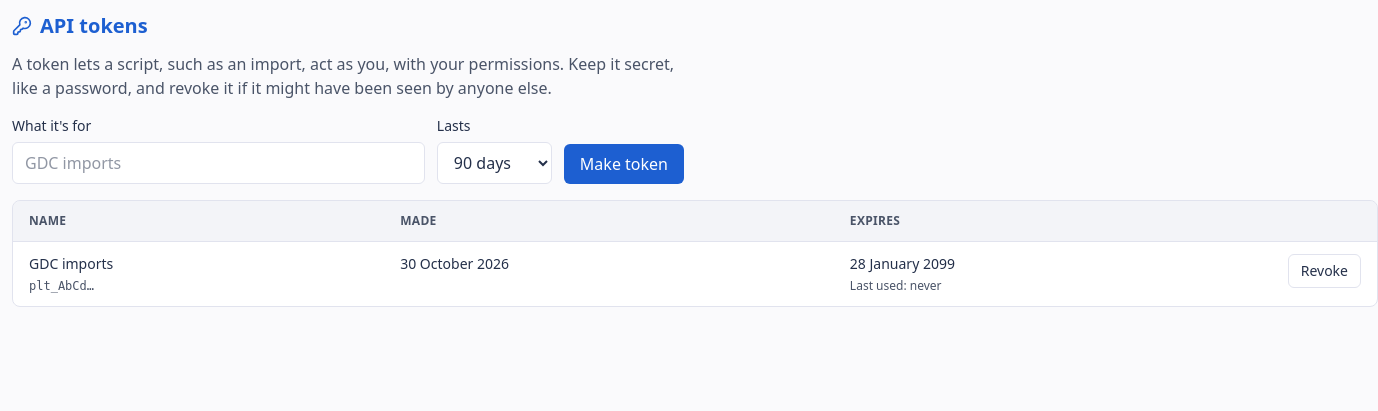
TokensSection › says why a token could not be revoked
Click the button with aria-label "Revoke GDC imports" at (1324, 271), box left=1288, top=254, right=1361, bottom=288
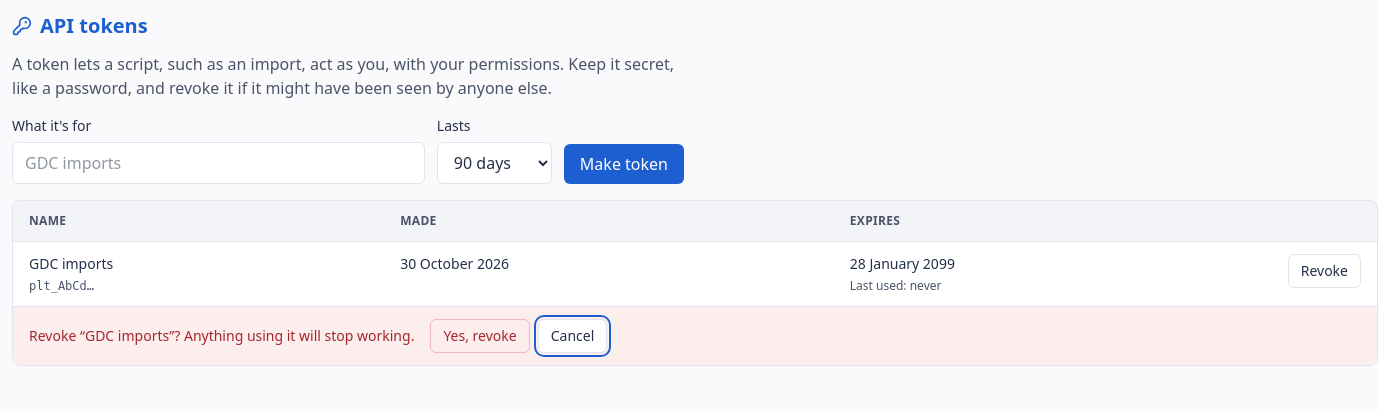
Click the button "Yes, revoke" at (480, 336), box left=430, top=319, right=530, bottom=353
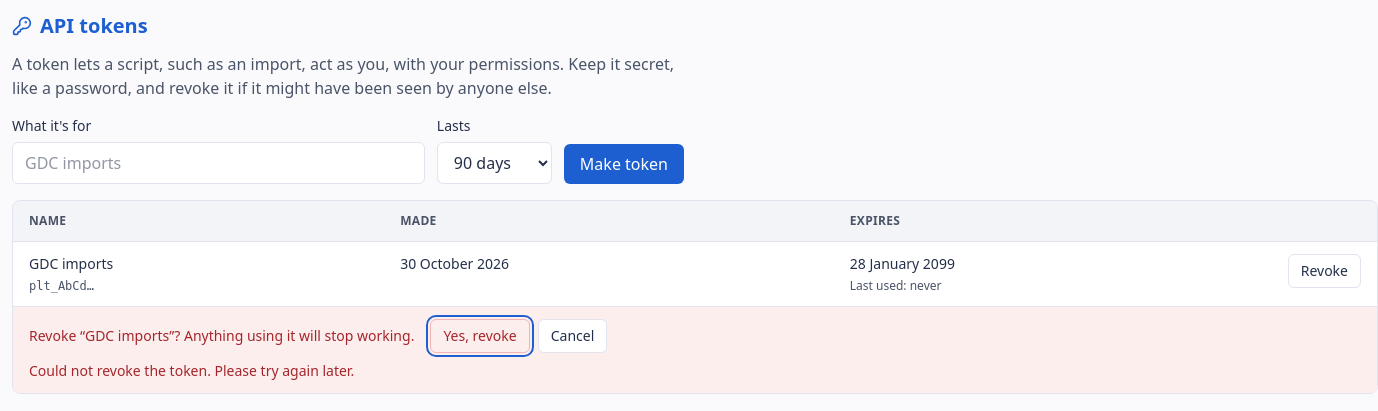
Check: the message shows "Could not revoke the token", box left=29, top=361, right=354, bottom=380
